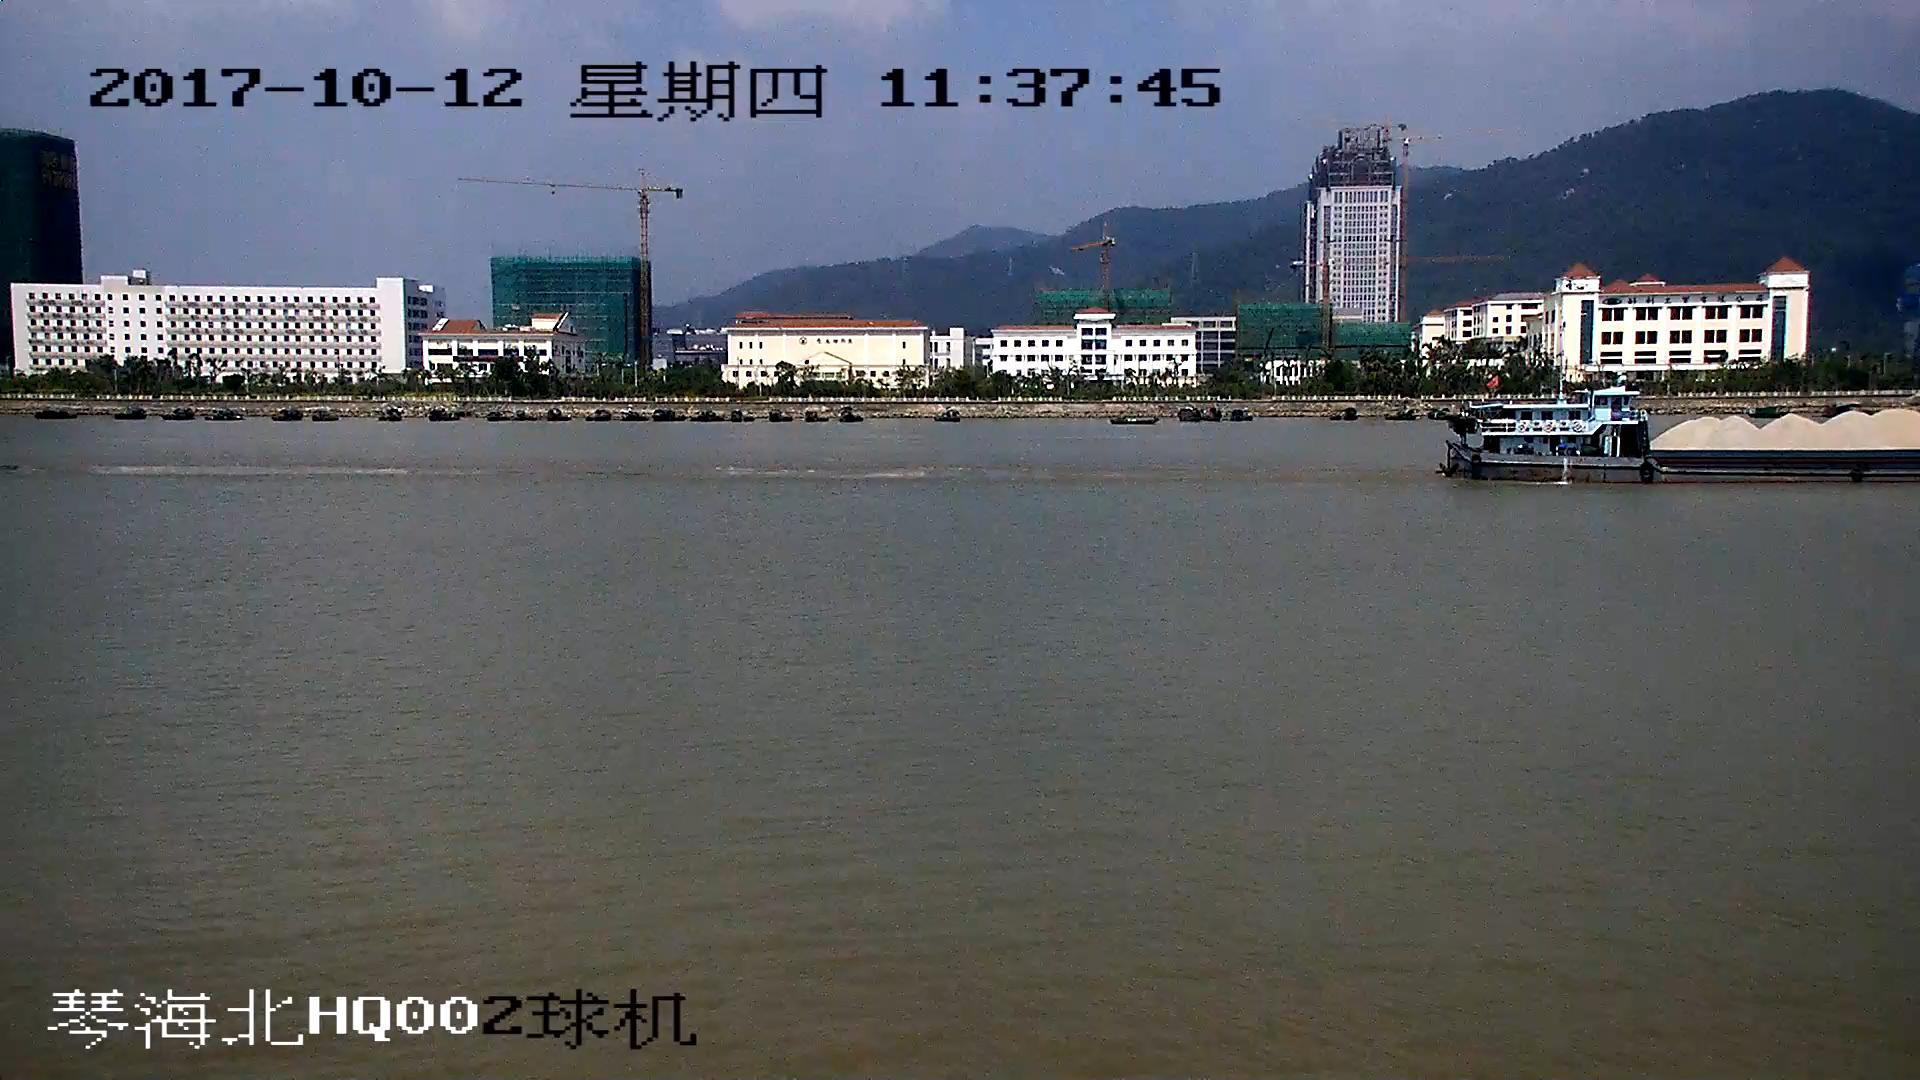ore carrier: (1449, 392, 1920, 482)
